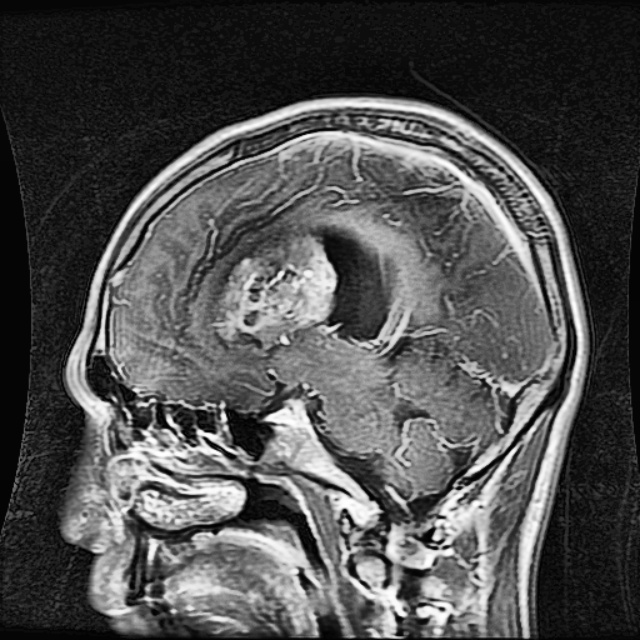Meningioma: (212, 230, 392, 344)
